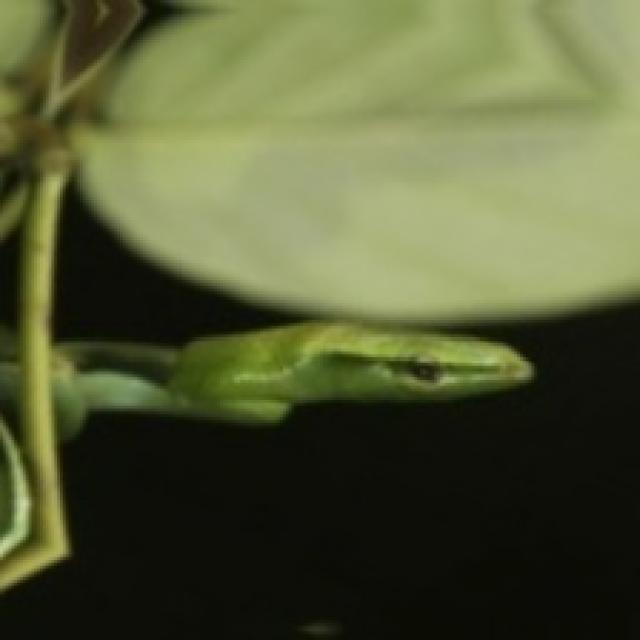red-tailed green ratsnake: (49, 320, 531, 440)
